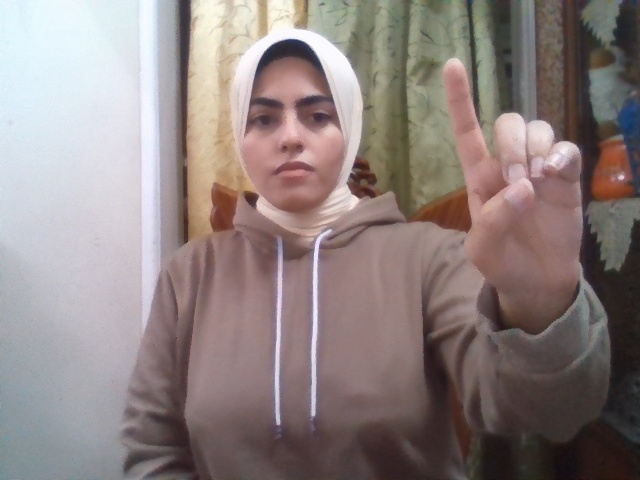D: (442, 58, 584, 289)
